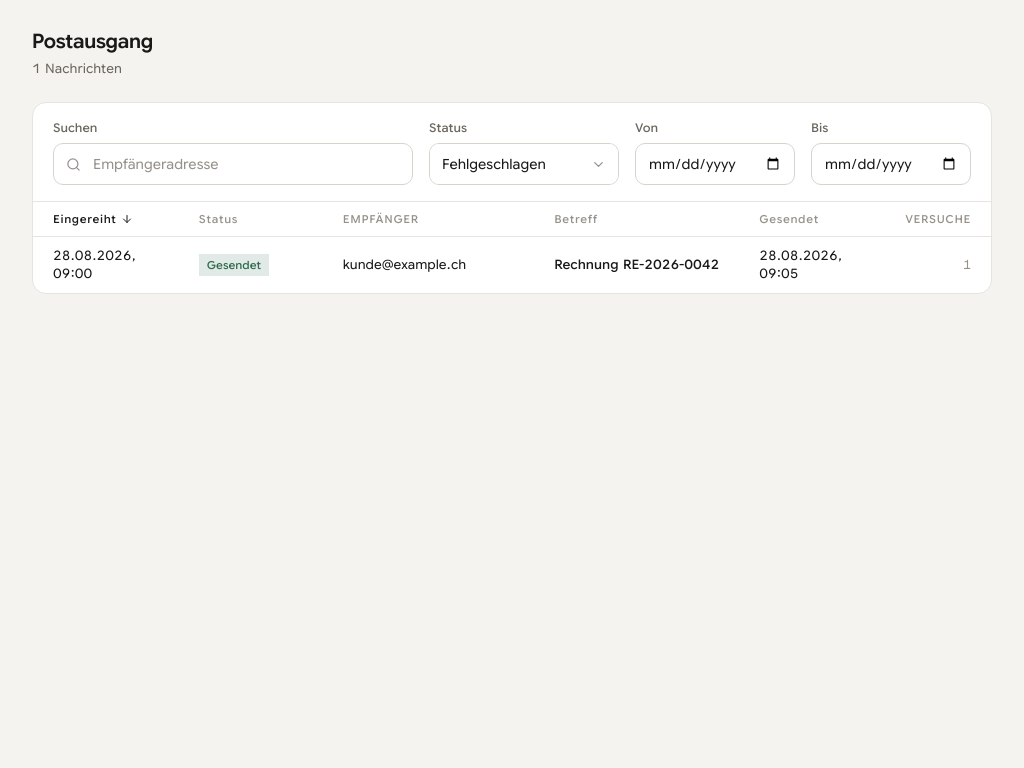
Scenario: OutboxListPage › outboxListPageDoesNotResendASentMessageTest
Click the row that starts with "Gesendet" at [94, 256], box [33, 236, 991, 293]
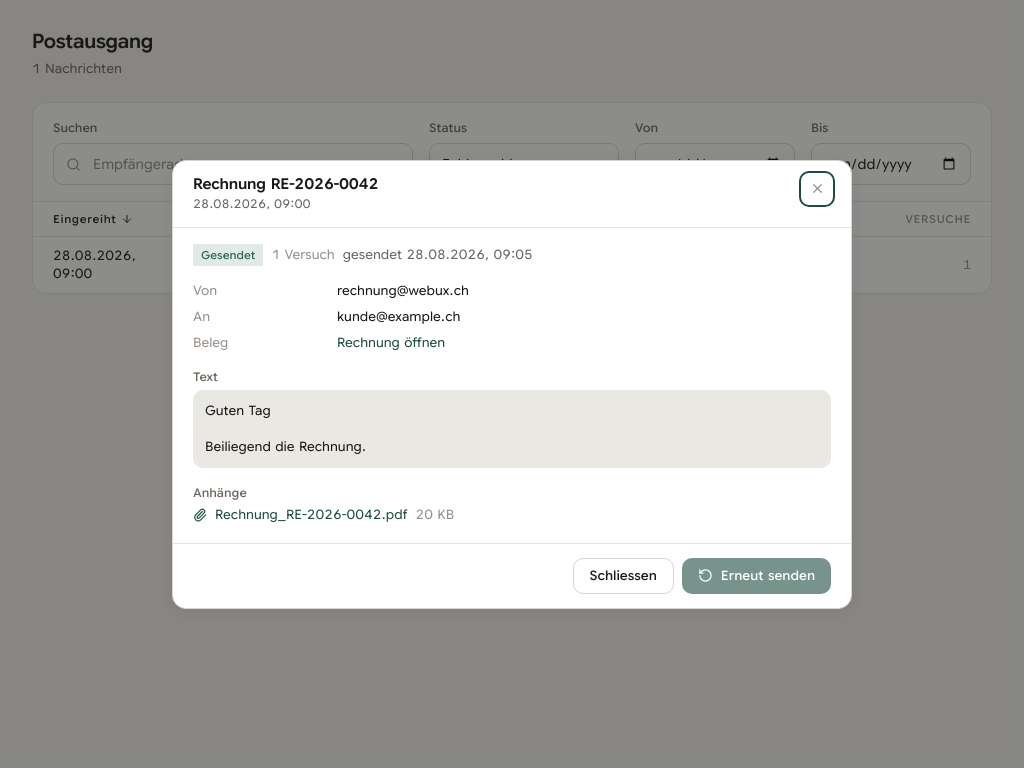
Result: the button "Erneut senden" is disabled at [682, 558, 831, 594]
